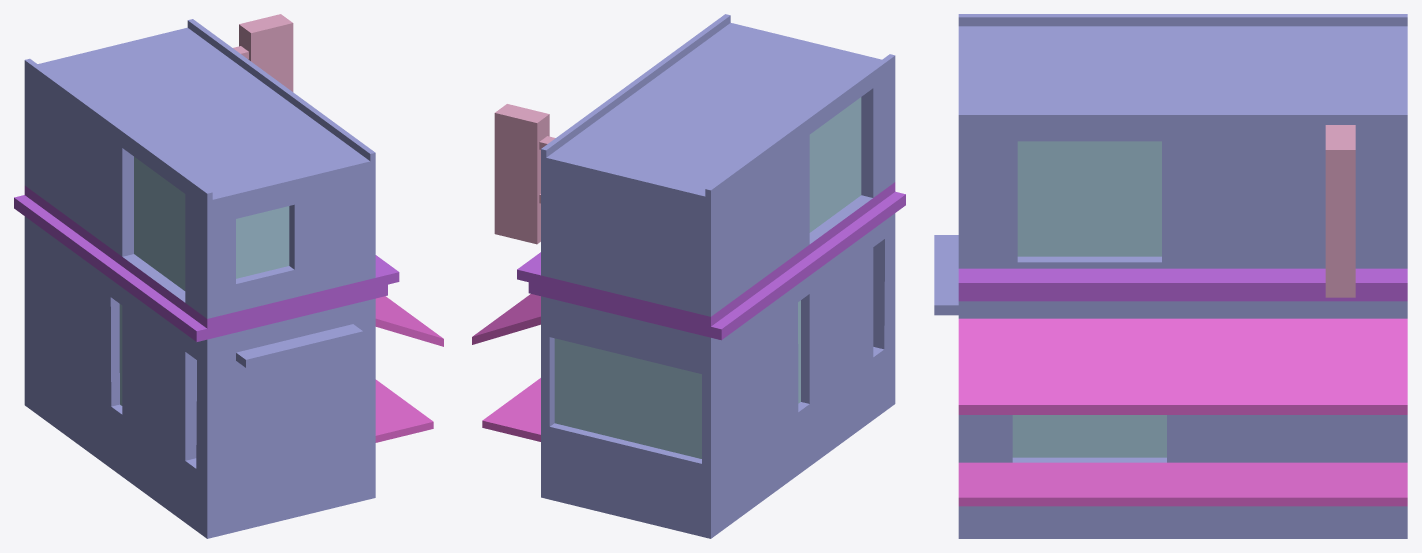
Rendered from Small_Building.fbx.
The picture shows the model from 3 angles, left to right: view 1: azimuth 30°, elevation 25°; view 2: azimuth 150°, elevation 25°; view 3: azimuth 270°, elevation 25°; orthographic projection. The views are drawn at different scales.
Visible parts, largest first — view 1: Main.003, Deko, Glas, Überdach.001, Sign; view 2: Main.003, Glas, Deko, Sign, Überdach.001; view 3: Main.003, Überdach.001, Glas, Deko, Sign.
Part boxes in pixels (<box>): Main.003: <box>24,19,375,538</box>; Deko: <box>14,185,399,341</box>; Glas: <box>119,157,289,405</box>; Überdach.001: <box>375,296,443,442</box>; Sign: <box>233,14,293,91</box>; Main.003: <box>541,14,895,538</box>; Glas: <box>554,97,861,458</box>; Deko: <box>517,182,905,340</box>; Sign: <box>494,104,555,244</box>; Überdach.001: <box>472,294,540,441</box>; Main.003: <box>934,14,1407,538</box>; Überdach.001: <box>958,318,1407,506</box>; Glas: <box>1012,141,1166,457</box>; Deko: <box>958,268,1407,301</box>; Sign: <box>1325,125,1355,297</box>.
Bounding box in the file's own units: 930 × 1256 × 1256.
